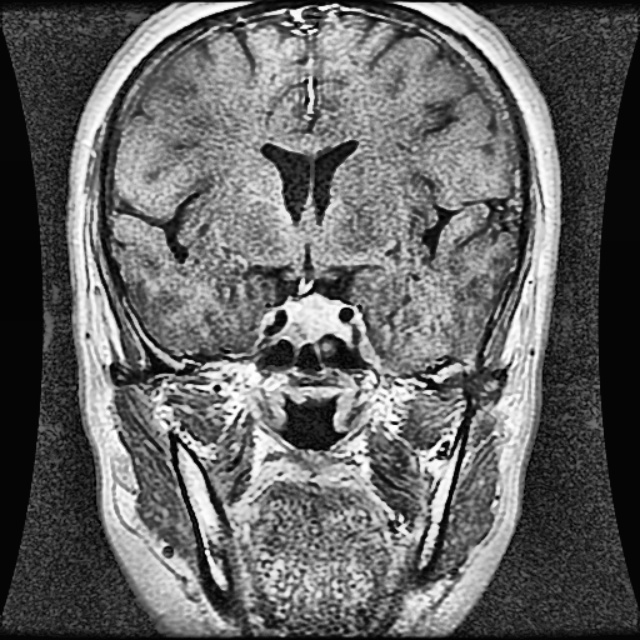Pituitary: (284, 294, 339, 343)
